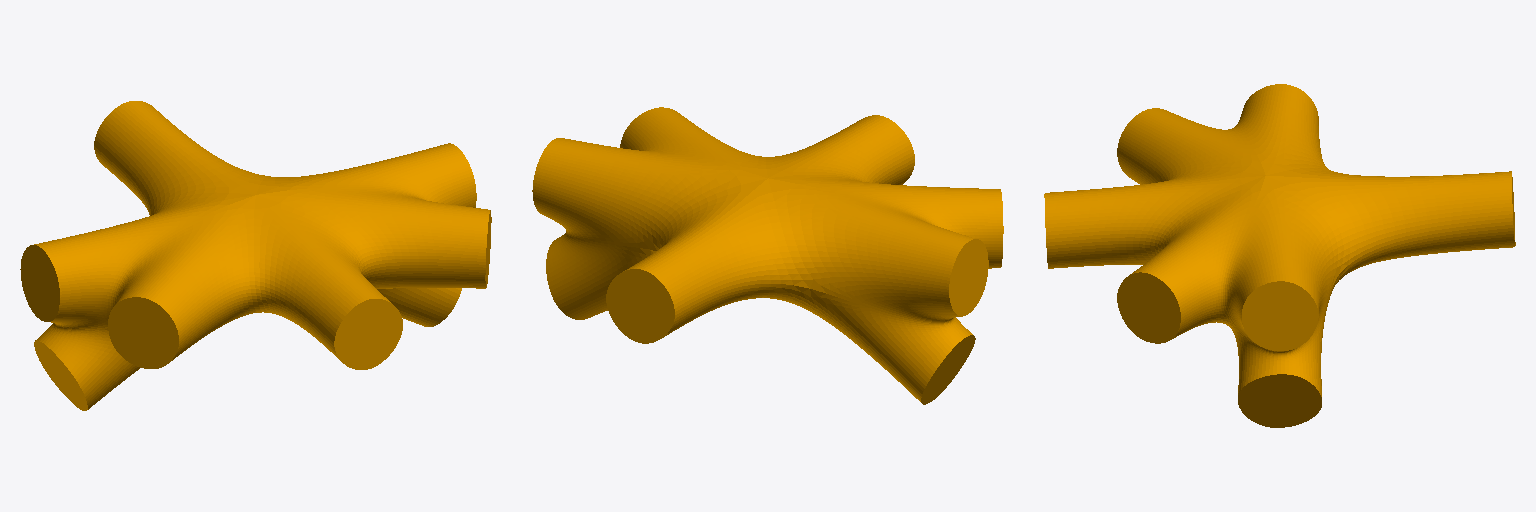
robot.urdf — object:
<robot name="object">
  <link name="object">
    <visual>
      <origin xyz="0 0 0"/>
      <geometry>
        <mesh filename="visual.obj" scale="1 1 1"/>
      </geometry>
    </visual>
    <collision>
      <origin xyz="0 0 0"/>
      <geometry>
        <mesh filename="visual.obj" scale="1 1 1"/>
      </geometry>
    </collision>
    <inertial>
      <mass value="0.05"/>
      <inertia ixx="1.3145933543430195e-05" iyy="2.495339879166959e-05" izz="3.4026039381851664e-05" ixy="-2.120904967680558e-09" ixz="-2.6282659068427856e-08" iyz="-3.166395697035312e-08"/>
    </inertial>
  </link>
</robot>

--- What the picture shows (computed from the rendered views, not written in the file) ---
3 views of the same robot in one strip: view 1: azimuth 30°, elevation 25°; view 2: azimuth 150°, elevation 25°; view 3: azimuth 270°, elevation 25° (orthographic).
Model object with 1 links and 0 joints (none), rooted at object, posed all joints at 0.
Visible links, largest first — view 1: object; view 2: object; view 3: object.
Boxes of the visible links, x1,y1,x2,y2 form: object: (20, 101, 491, 410); object: (532, 107, 1003, 404); object: (1044, 84, 1515, 427).
Bounding box of the posed robot: 0.0867 × 0.0871 × 0.0352 m (x, y, z).
Meshes: 1 distinct files referenced, 1 mesh visuals loaded (1 OBJ).
